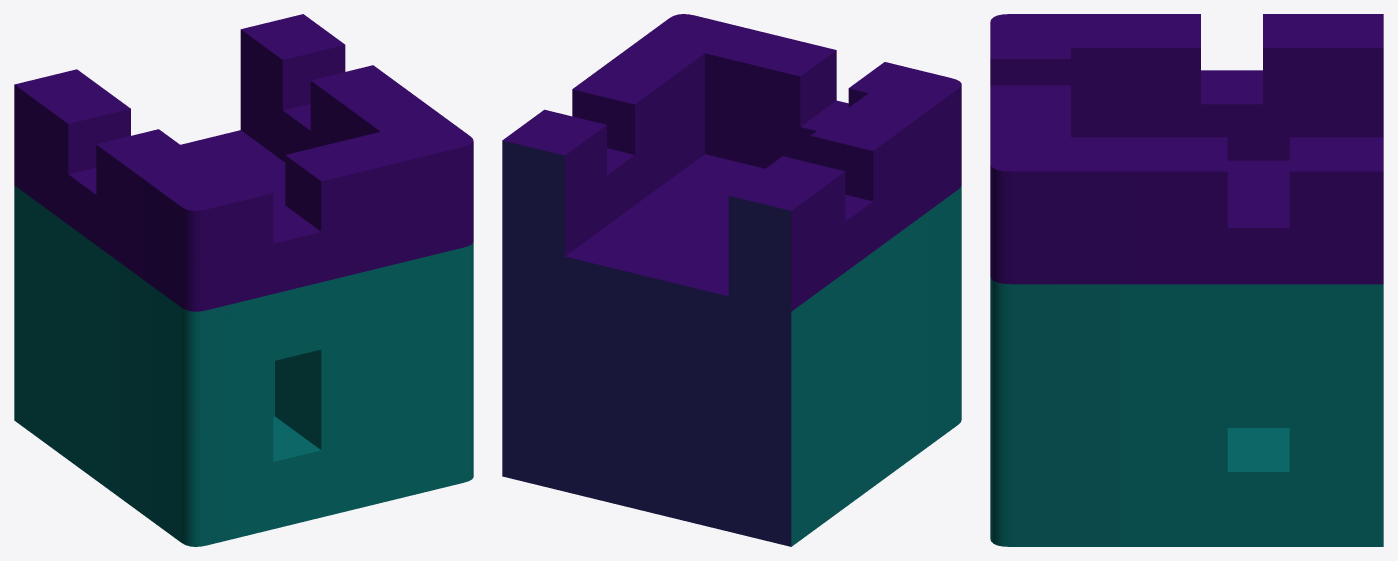
File: Roof_01_I_L.fbx
The picture shows the model from 3 angles, left to right: view 1: azimuth 30°, elevation 25°; view 2: azimuth 150°, elevation 25°; view 3: azimuth 270°, elevation 25°; orthographic projection. The views are drawn at different scales.
Parts seen in each view (by area): view 1: 3, 1, 4, 2; view 2: 4, 2, 3, 1; view 3: 2, 1, 4, 3.
Part boxes in pixels (x1,y1,x2,y2): 3: (107,137,334,546); 1: (299,82,473,513); 4: (14,69,168,487); 2: (180,14,395,208); 4: (647,128,883,546); 2: (502,72,728,511); 3: (787,47,961,478); 1: (595,14,822,205); 2: (1176,137,1383,546); 1: (990,92,1176,546); 4: (1176,14,1383,193); 3: (990,14,1176,137).
Size of the model in its own units: 180 by 200 by 190.
